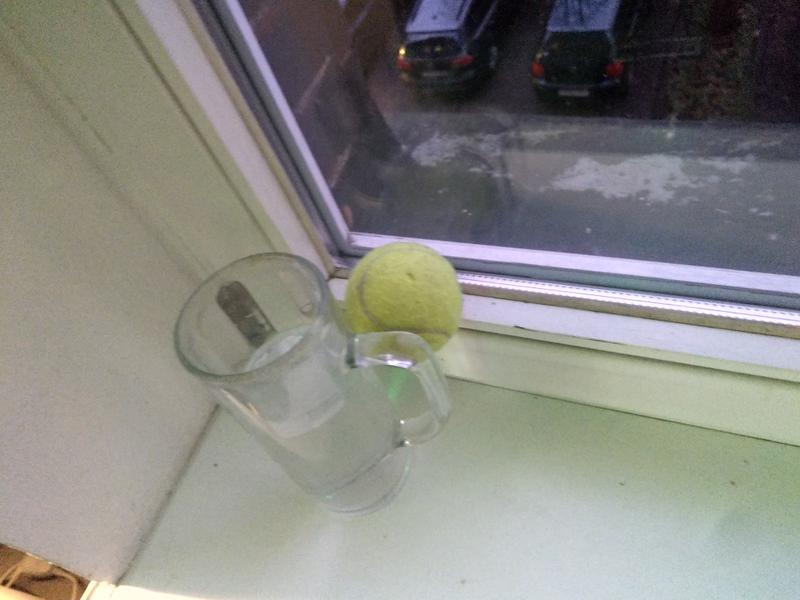Tennisball: (342, 237, 463, 355)
